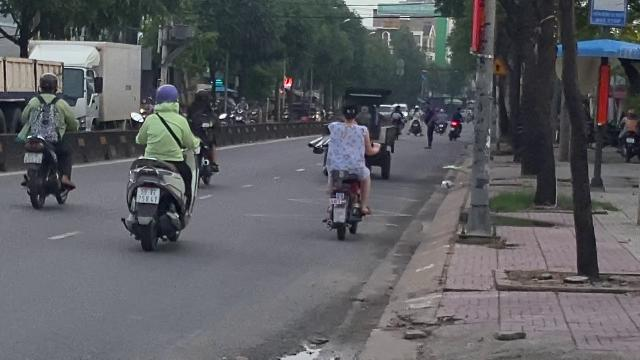helmet: (153, 82, 180, 109), (38, 72, 58, 94)
licenseplate: (136, 187, 158, 202), (24, 152, 42, 162)
motorcyclist: (119, 82, 198, 250), (16, 72, 78, 208), (319, 101, 375, 241)
nohelmet: (340, 100, 360, 124)
